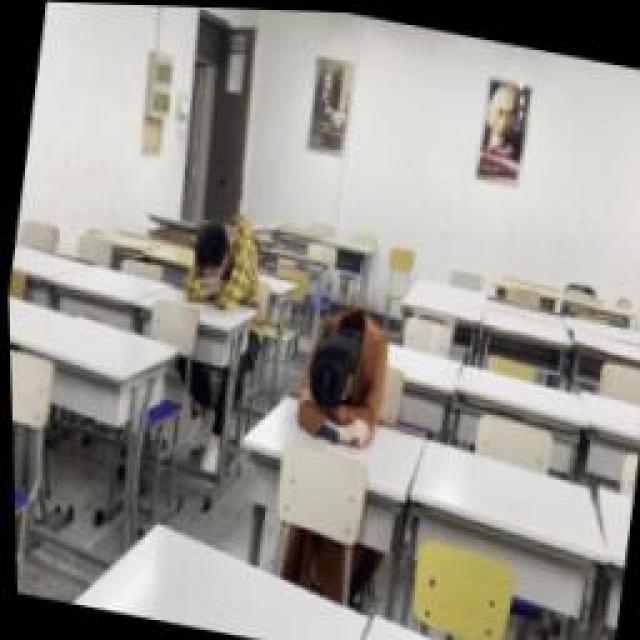sleep: (287, 298, 395, 450), (180, 207, 265, 315)
